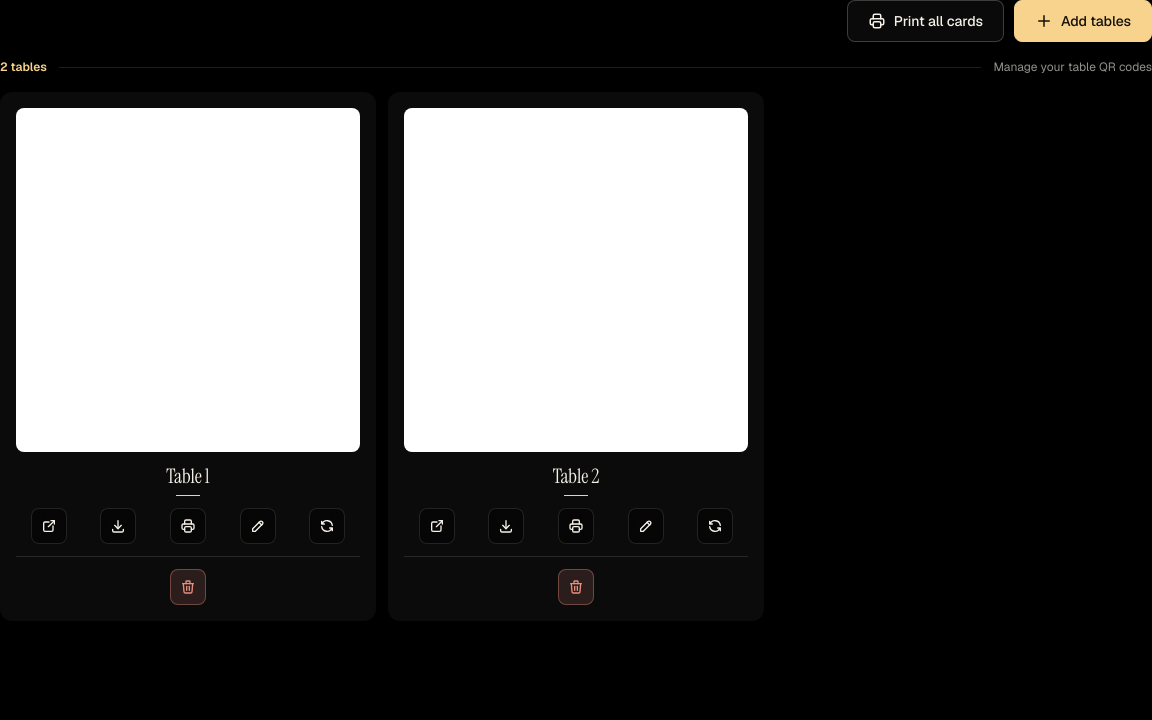
Test: TablesPage › renames a table and closes the dialog
Click the button named "Rename" below "Table 1".
click(258, 526)  # box [240, 508, 276, 544]
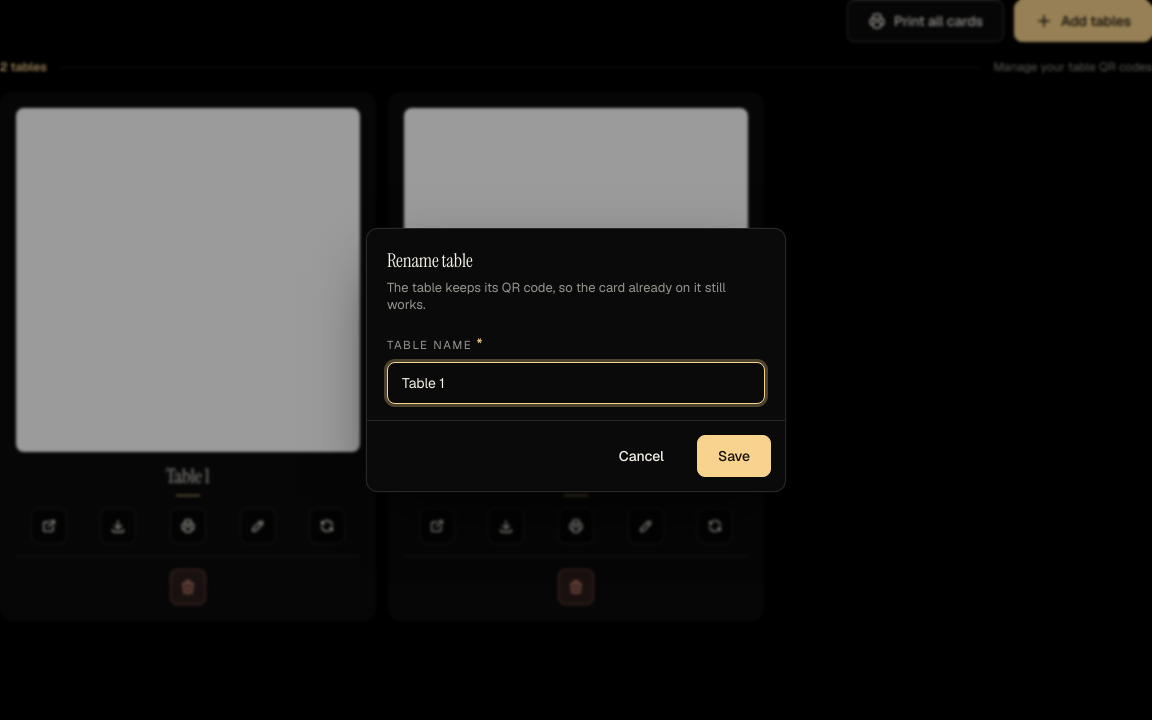
Now the field labelled "Table name*" holds "Table 1"
Replace the text in the field labelled "Table name*" with "Window" at (576, 383), box [388, 363, 764, 403]
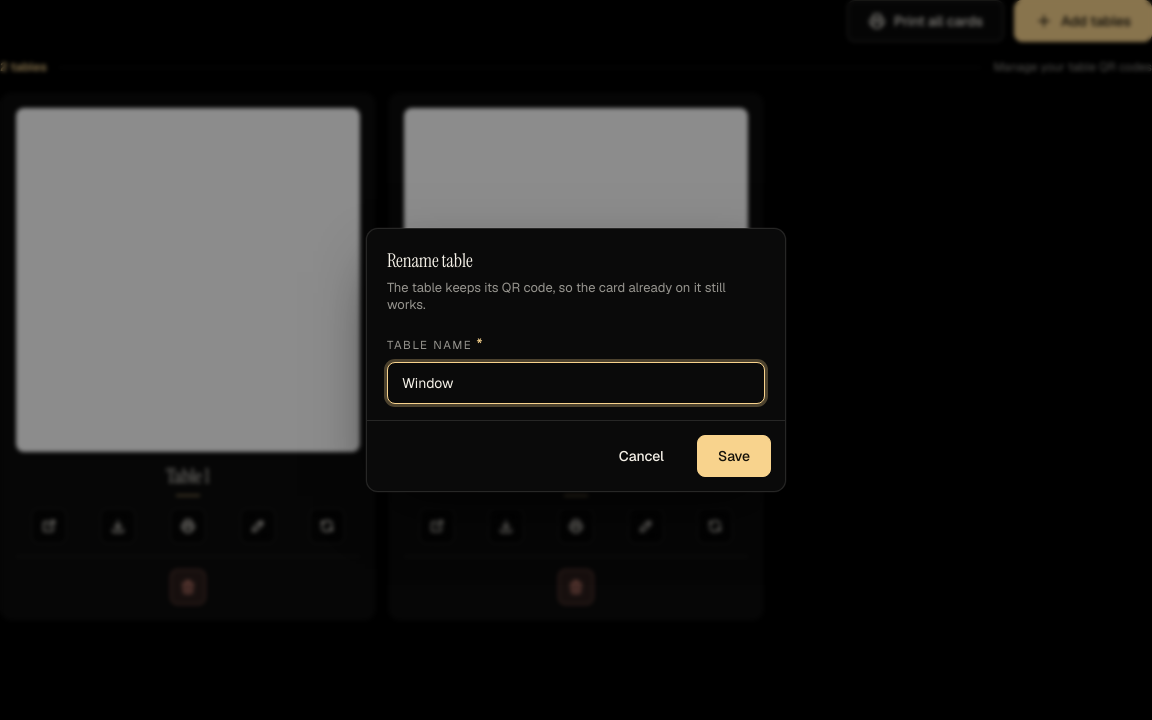
Click the button "Save".
click(734, 456)  # box [697, 435, 771, 477]
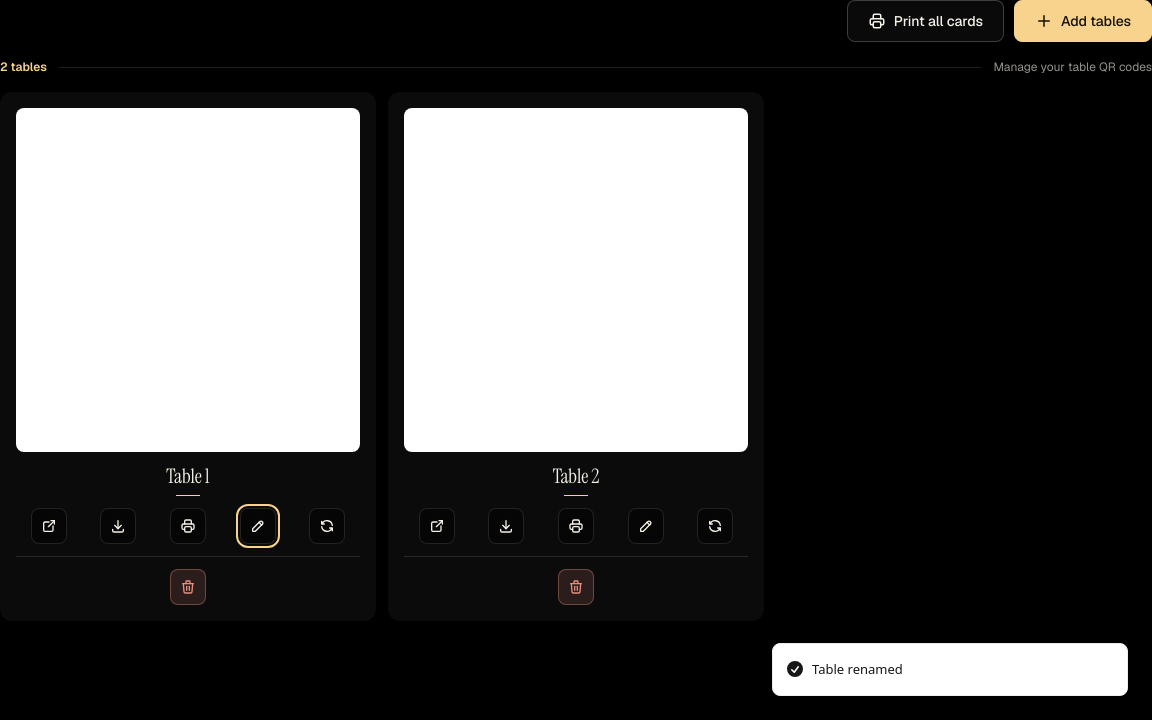
Now the text "Table renamed" is shown, box [812, 660, 903, 679]
Now the dialog is gone
